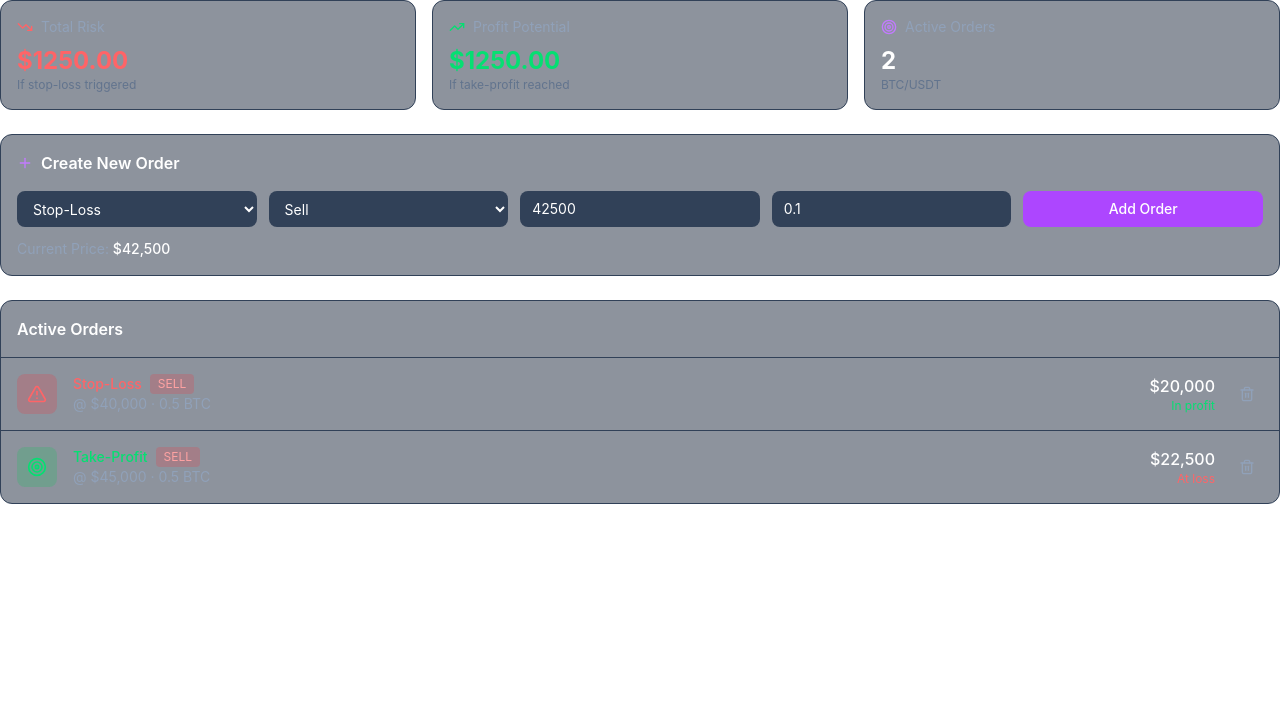
it: StopLossTakeProfit › can add new order
Click the button "Add Order" at (1143, 209), box [1023,191,1263,227]
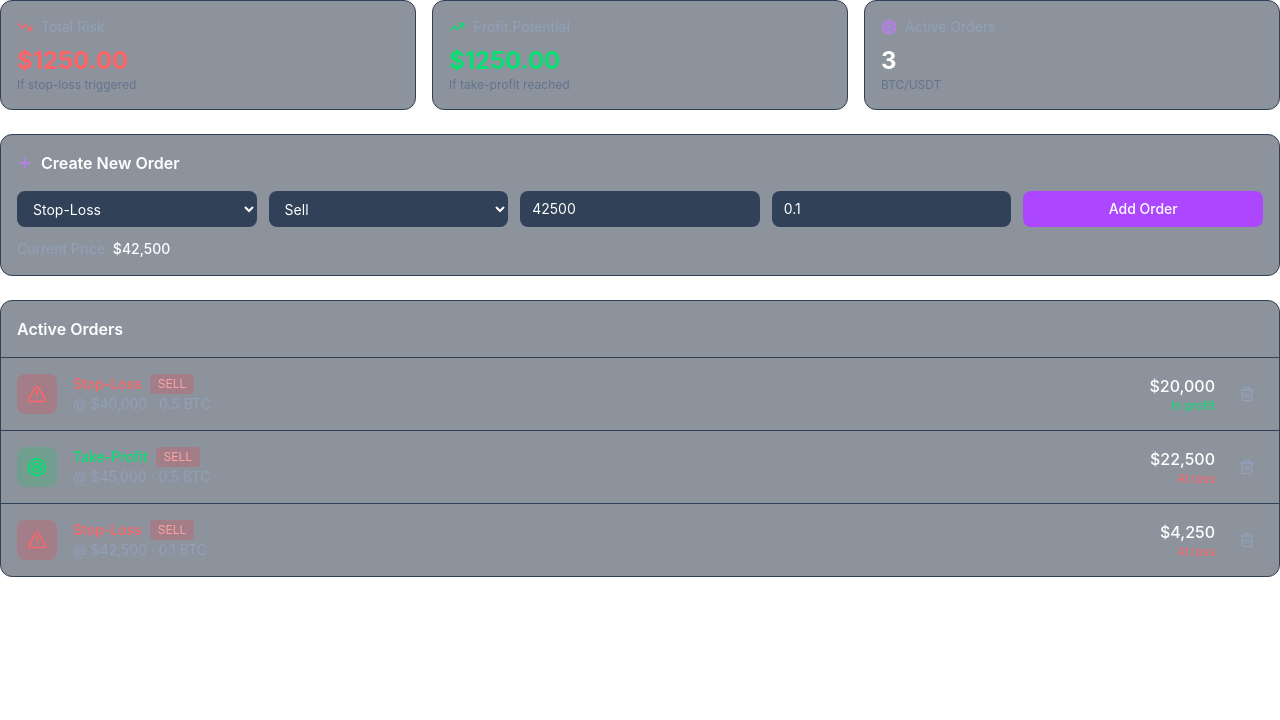
Expected: the text "3" is shown, [881,46,896,75]
